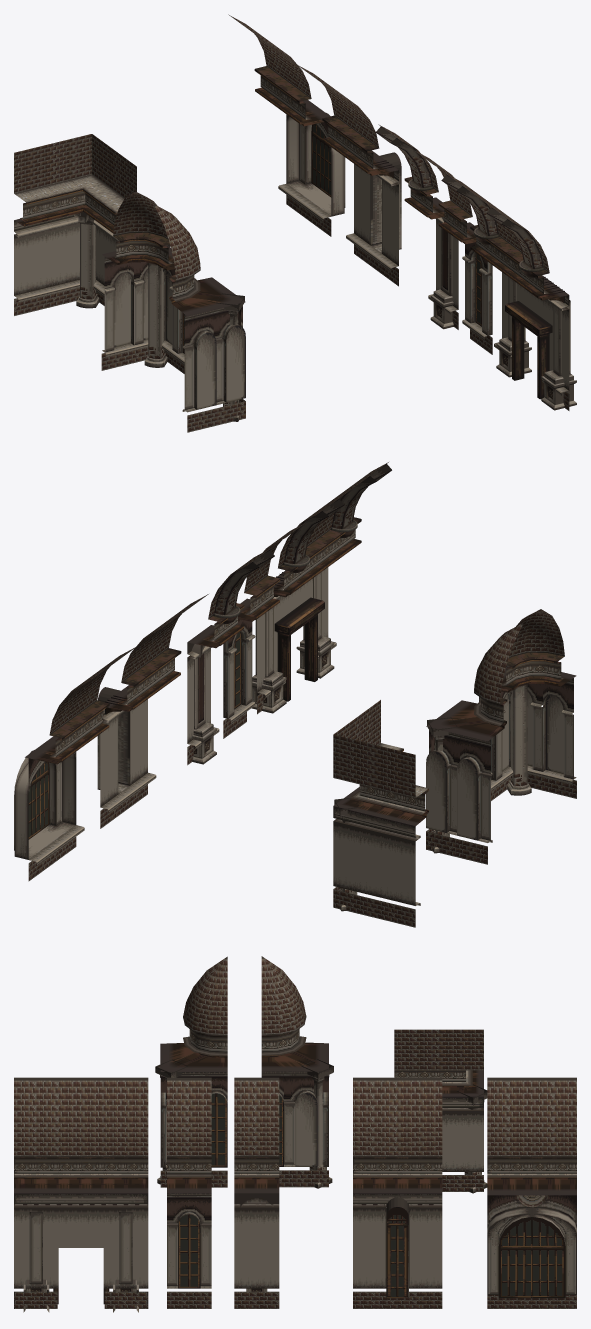
Rendered from EnvMdrMD_Mansion_B_Wall_CoIn_A.FBX.
3 views of the same model, one above another, from view 1: azimuth 30°, elevation 25°; view 2: azimuth 150°, elevation 25°; view 3: azimuth 270°, elevation 25° (orthographic). The views are drawn at different scales.
Visible parts, largest first — view 1: EnvMdrMD_Mansion_B_Wall_CoIn_A, EnvMdrMD_Mansion_B_Wall_Gate_A_2F, EnvMdrMD_Mansion_B_Wall_CoIn_A_L, EnvMdrMD_Mansion_B_Wall_CoIn_A_R, EnvMdrMD_Mansion_B_Wall_Window_B, EnvMdrMD_Mansion_B_Wall_Window_A_2F, EnvMdrMD_Mansion_B_Wall_Deco_2F, EnvMdrMD_Mansion_B_Wall_Window_C; view 2: EnvMdrMD_Mansion_B_Wall_CoIn_A, EnvMdrMD_Mansion_B_Wall_Gate_A_2F, EnvMdrMD_Mansion_B_Wall_CoIn_A_R, EnvMdrMD_Mansion_B_Wall_CoIn_A_L, EnvMdrMD_Mansion_B_Wall_Window_B, EnvMdrMD_Mansion_B_Wall_Window_A_2F, EnvMdrMD_Mansion_B_Wall_Deco_2F, EnvMdrMD_Mansion_B_Wall_Window_C; view 3: EnvMdrMD_Mansion_B_Wall_Gate_A_2F, EnvMdrMD_Mansion_B_Wall_Window_B, EnvMdrMD_Mansion_B_Wall_Window_A_2F, EnvMdrMD_Mansion_B_Wall_CoIn_A_L, EnvMdrMD_Mansion_B_Wall_Deco_2F, EnvMdrMD_Mansion_B_Wall_Window_C, EnvMdrMD_Mansion_B_Wall_CoIn_A, EnvMdrMD_Mansion_B_Wall_CoIn_A_R.
Part boxes in pixels (x1=…): EnvMdrMD_Mansion_B_Wall_CoIn_A: x1=14, y1=134, x2=136, y2=315; EnvMdrMD_Mansion_B_Wall_Gate_A_2F: x1=441, y1=172, x2=576, y2=410; EnvMdrMD_Mansion_B_Wall_CoIn_A_L: x1=101, y1=191, x2=194, y2=373; EnvMdrMD_Mansion_B_Wall_CoIn_A_R: x1=154, y1=204, x2=245, y2=432; EnvMdrMD_Mansion_B_Wall_Window_B: x1=228, y1=14, x2=345, y2=236; EnvMdrMD_Mansion_B_Wall_Window_A_2F: x1=296, y1=64, x2=401, y2=286; EnvMdrMD_Mansion_B_Wall_Deco_2F: x1=375, y1=124, x2=458, y2=329; EnvMdrMD_Mansion_B_Wall_Window_C: x1=412, y1=149, x2=492, y2=354; EnvMdrMD_Mansion_B_Wall_CoIn_A: x1=333, y1=700, x2=428, y2=927; EnvMdrMD_Mansion_B_Wall_Gate_A_2F: x1=252, y1=462, x2=391, y2=714; EnvMdrMD_Mansion_B_Wall_CoIn_A_R: x1=479, y1=609, x2=576, y2=800; EnvMdrMD_Mansion_B_Wall_CoIn_A_L: x1=426, y1=622, x2=523, y2=864; EnvMdrMD_Mansion_B_Wall_Window_B: x1=14, y1=646, x2=137, y2=881; EnvMdrMD_Mansion_B_Wall_Window_A_2F: x1=97, y1=594, x2=208, y2=828; EnvMdrMD_Mansion_B_Wall_Deco_2F: x1=187, y1=548, x2=274, y2=765; EnvMdrMD_Mansion_B_Wall_Window_C: x1=223, y1=521, x2=307, y2=738; EnvMdrMD_Mansion_B_Wall_Gate_A_2F: x1=14, y1=1077, x2=148, y2=1312; EnvMdrMD_Mansion_B_Wall_Window_B: x1=487, y1=1077, x2=576, y2=1308; EnvMdrMD_Mansion_B_Wall_Window_A_2F: x1=353, y1=1077, x2=442, y2=1308; EnvMdrMD_Mansion_B_Wall_CoIn_A_L: x1=261, y1=956, x2=333, y2=1188; EnvMdrMD_Mansion_B_Wall_Deco_2F: x1=234, y1=1077, x2=279, y2=1308; EnvMdrMD_Mansion_B_Wall_Window_C: x1=167, y1=1077, x2=211, y2=1308; EnvMdrMD_Mansion_B_Wall_CoIn_A: x1=394, y1=1029, x2=487, y2=1193; EnvMdrMD_Mansion_B_Wall_CoIn_A_R: x1=155, y1=956, x2=227, y2=1187.
Size of the model in its own units: 1734 by 1000 by 2513.
Materials: 1 (1 with a texture image).
